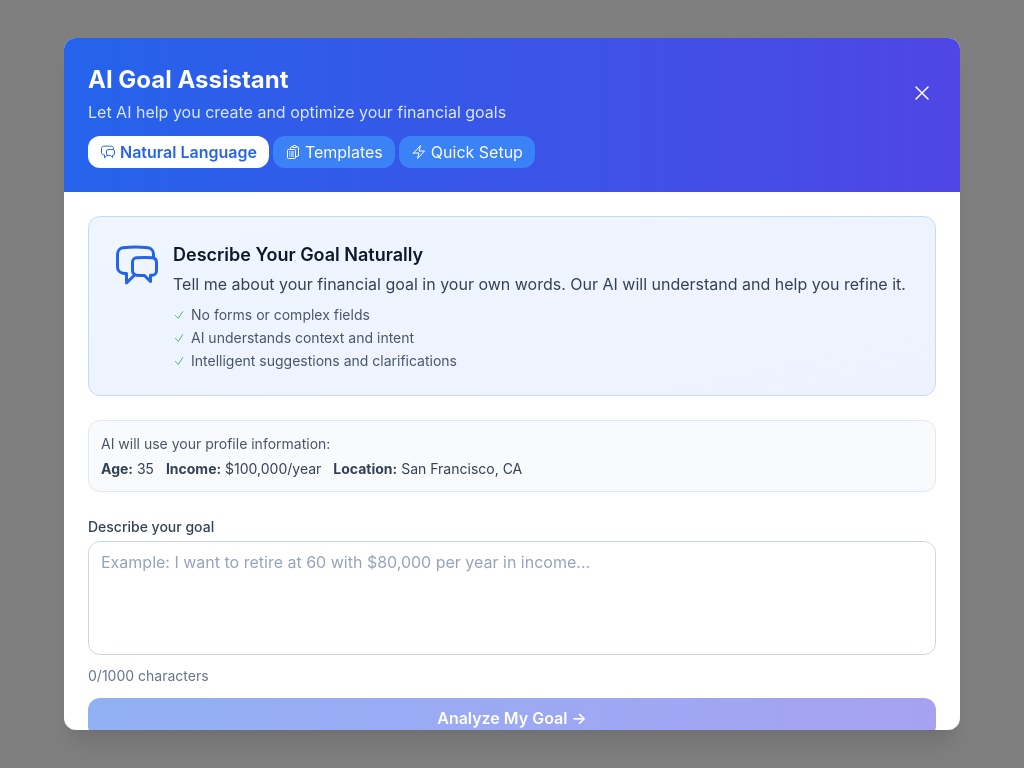
Scenario: AIGoalAssistant › handles clarifying questions flow
The image size is (1024, 768).
Replace the text in the text box with placeholder "Example: I want to retire" with "Save for college education" at x=512, y=598, box [88,541,936,655]
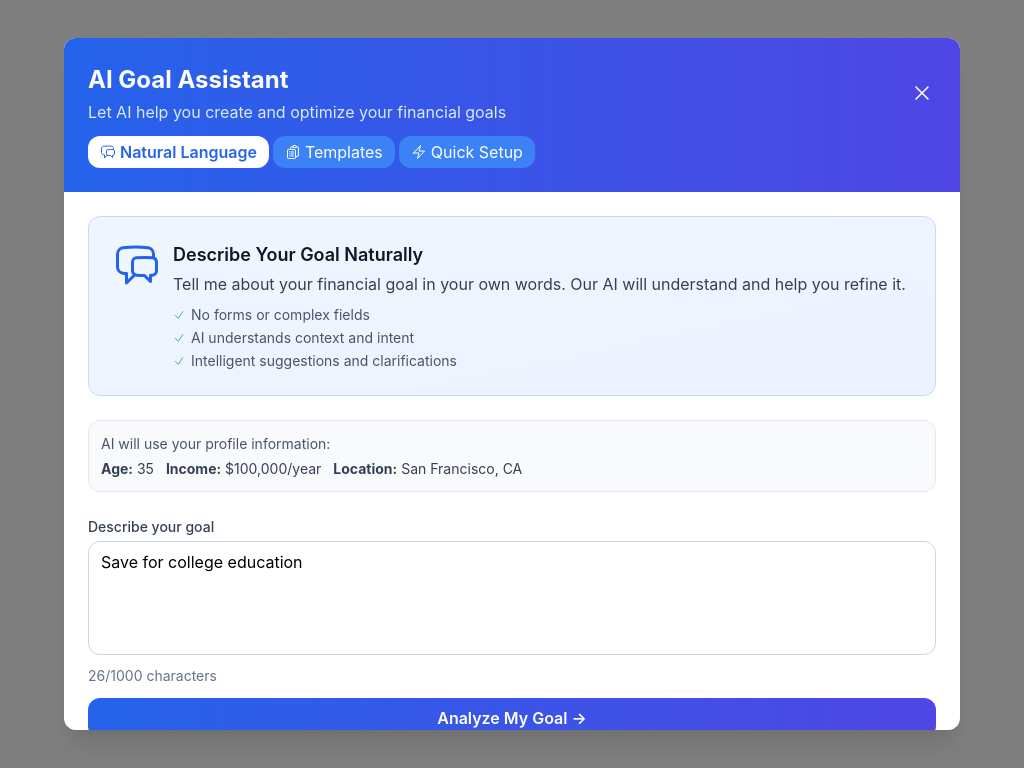
Click the button "Analyze My Goal →" at x=512, y=718, box [88,698,936,738]
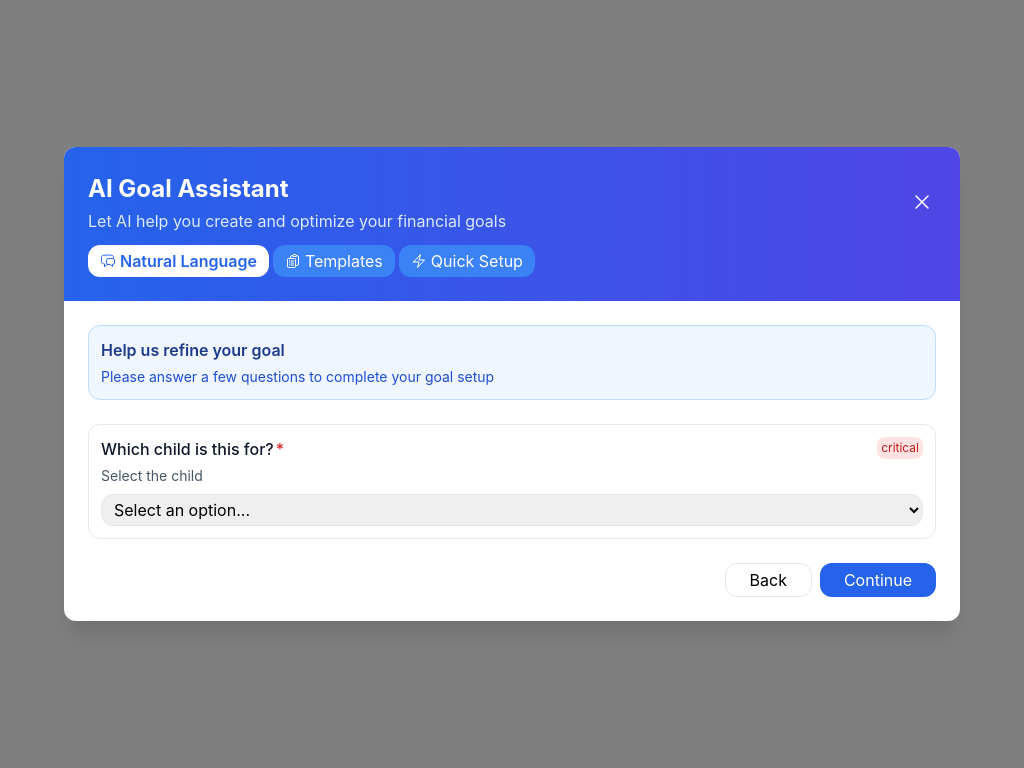
Expected: the heading "Help us refine your goal" is shown, [101,340,285,360]
Expected: the text "Which child is this for?*" is shown, [101,437,284,461]
